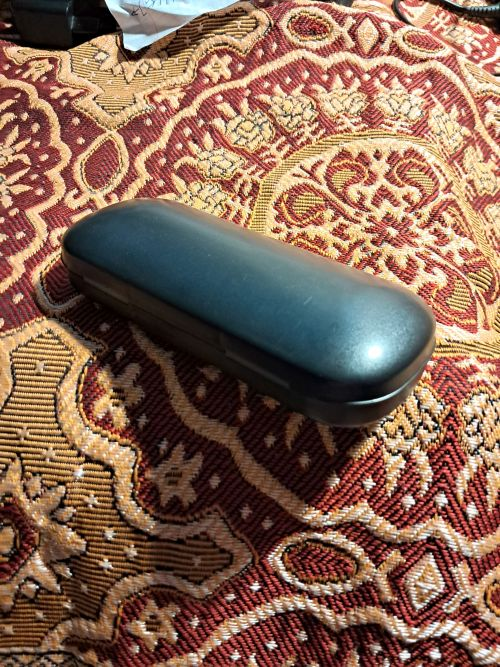case: (59, 195, 438, 422)
